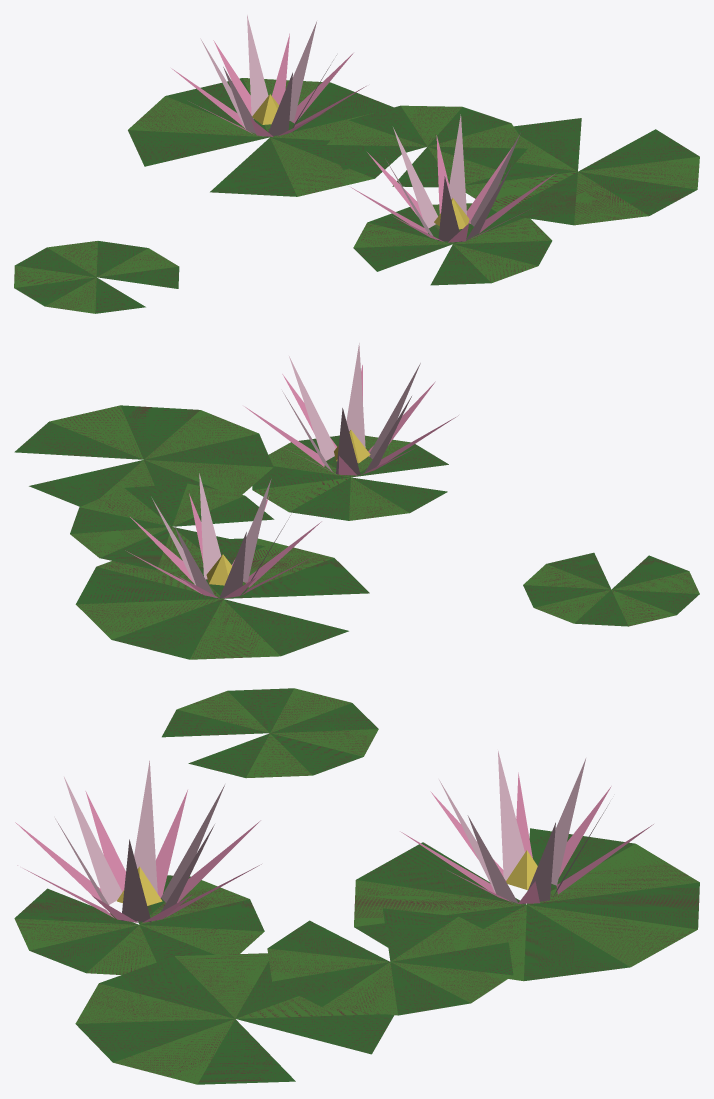
Rendered from Water Plant - Lily Flowers-BHcDa1wa.glb.
3 renders of one model, top to bottom at view 1: azimuth 30°, elevation 25°; view 2: azimuth 150°, elevation 25°; view 3: azimuth 270°, elevation 25°, orthographic. The views are drawn at different scales.
Parts seen in each view (by area): view 1: body; view 2: body; view 3: body.
Part boxes in pixels (x1,y1,x2,y2): body: (14, 15, 699, 313); body: (14, 343, 699, 659); body: (14, 688, 699, 1084).
Bounding box in the file's own units: 0.7997 × 0.1178 × 0.5816.
